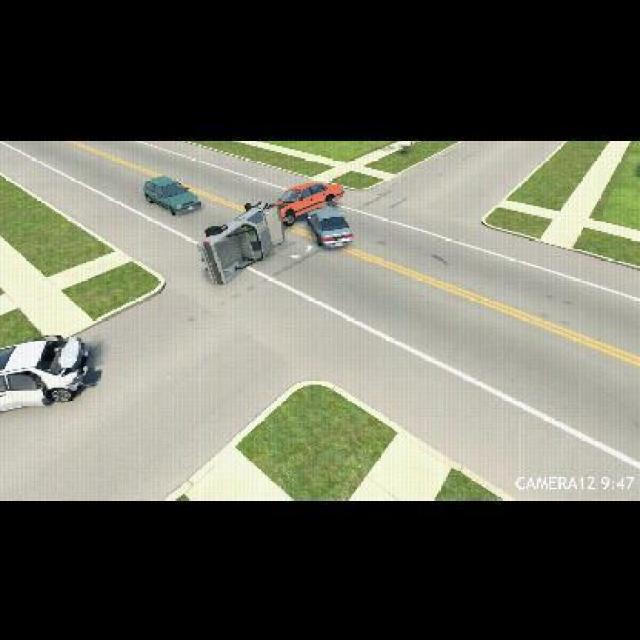accident: (198, 176, 353, 290)
